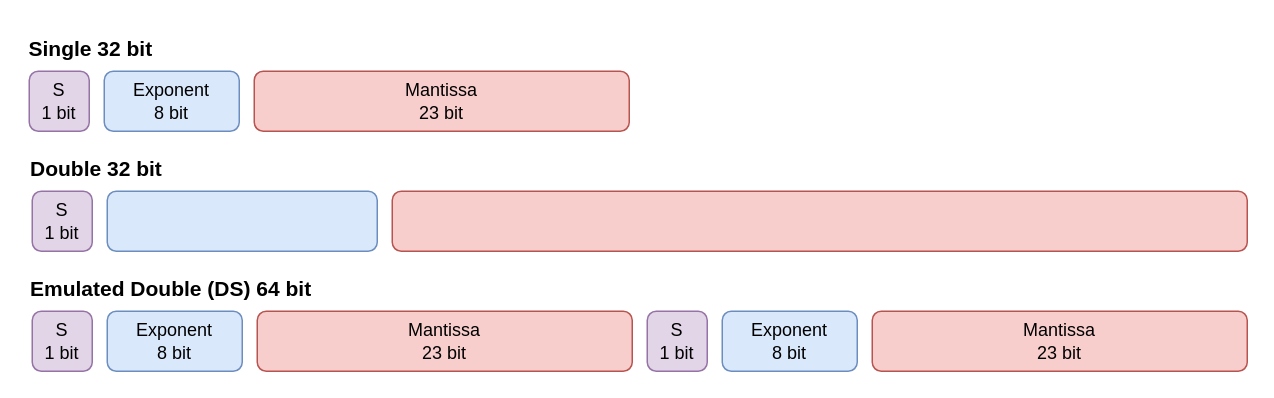
Image size: 1274x398. Some labels were removed from this diagram. The shapes that lost their labels are listed below. From the top down, each one's centre as x and y in pixels, then its label:
At [241,220]: "Exponent 11 bit".
At [819,220]: "Mantissa 52 bit".
